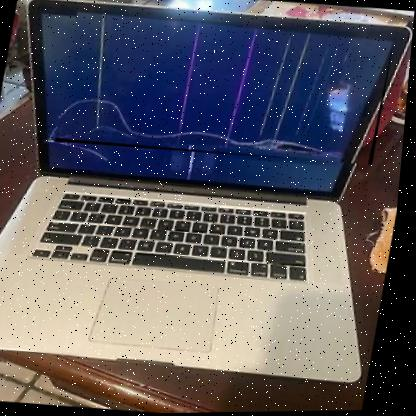lines: (54, 8, 397, 171)
